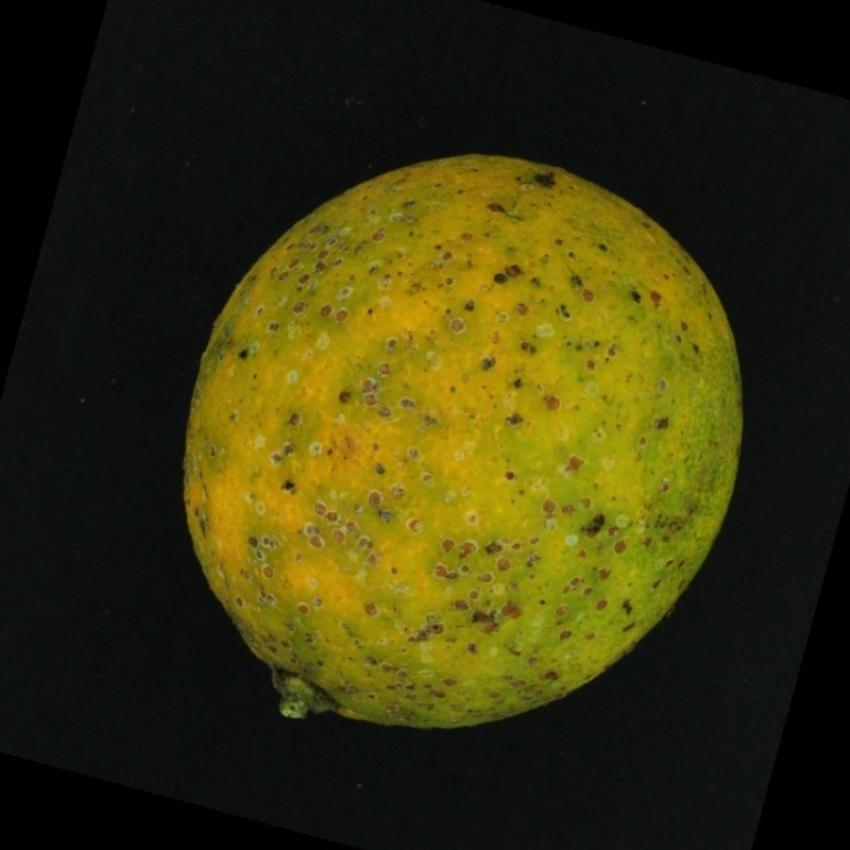Mal estado: (149, 136, 756, 746)
